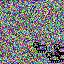sheep: (32, 41, 47, 54), (45, 52, 60, 63), (55, 49, 64, 62), (54, 44, 64, 53)
